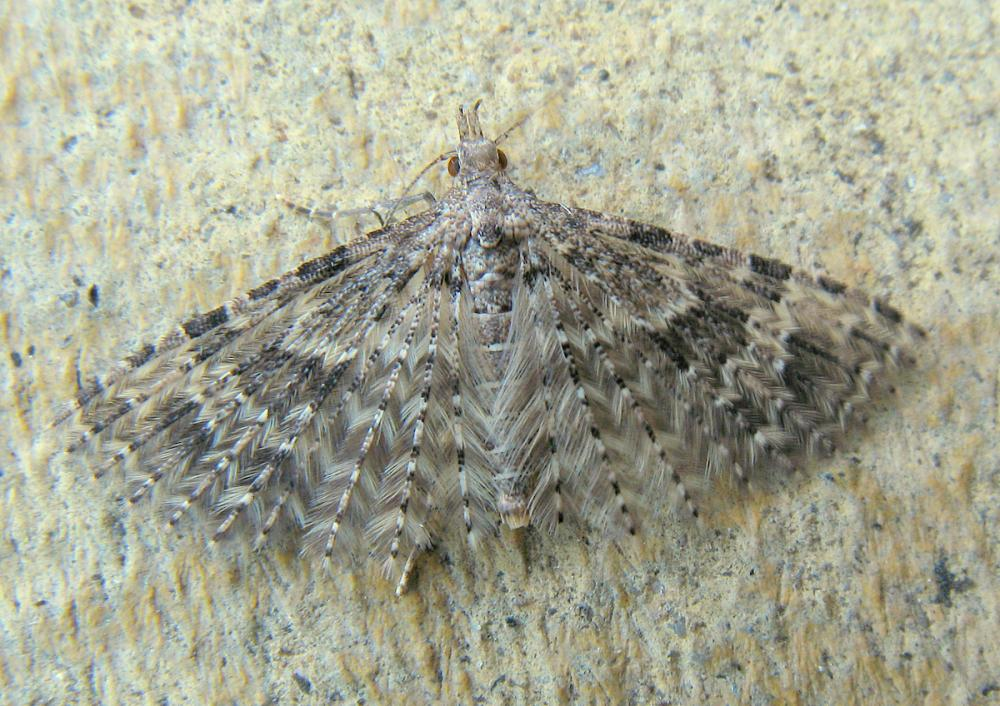Alucitidae: (62, 90, 937, 607)
moth: (60, 88, 935, 605)
